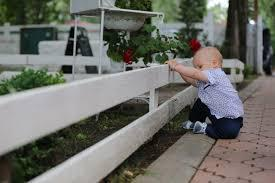child: (163, 43, 251, 140)
